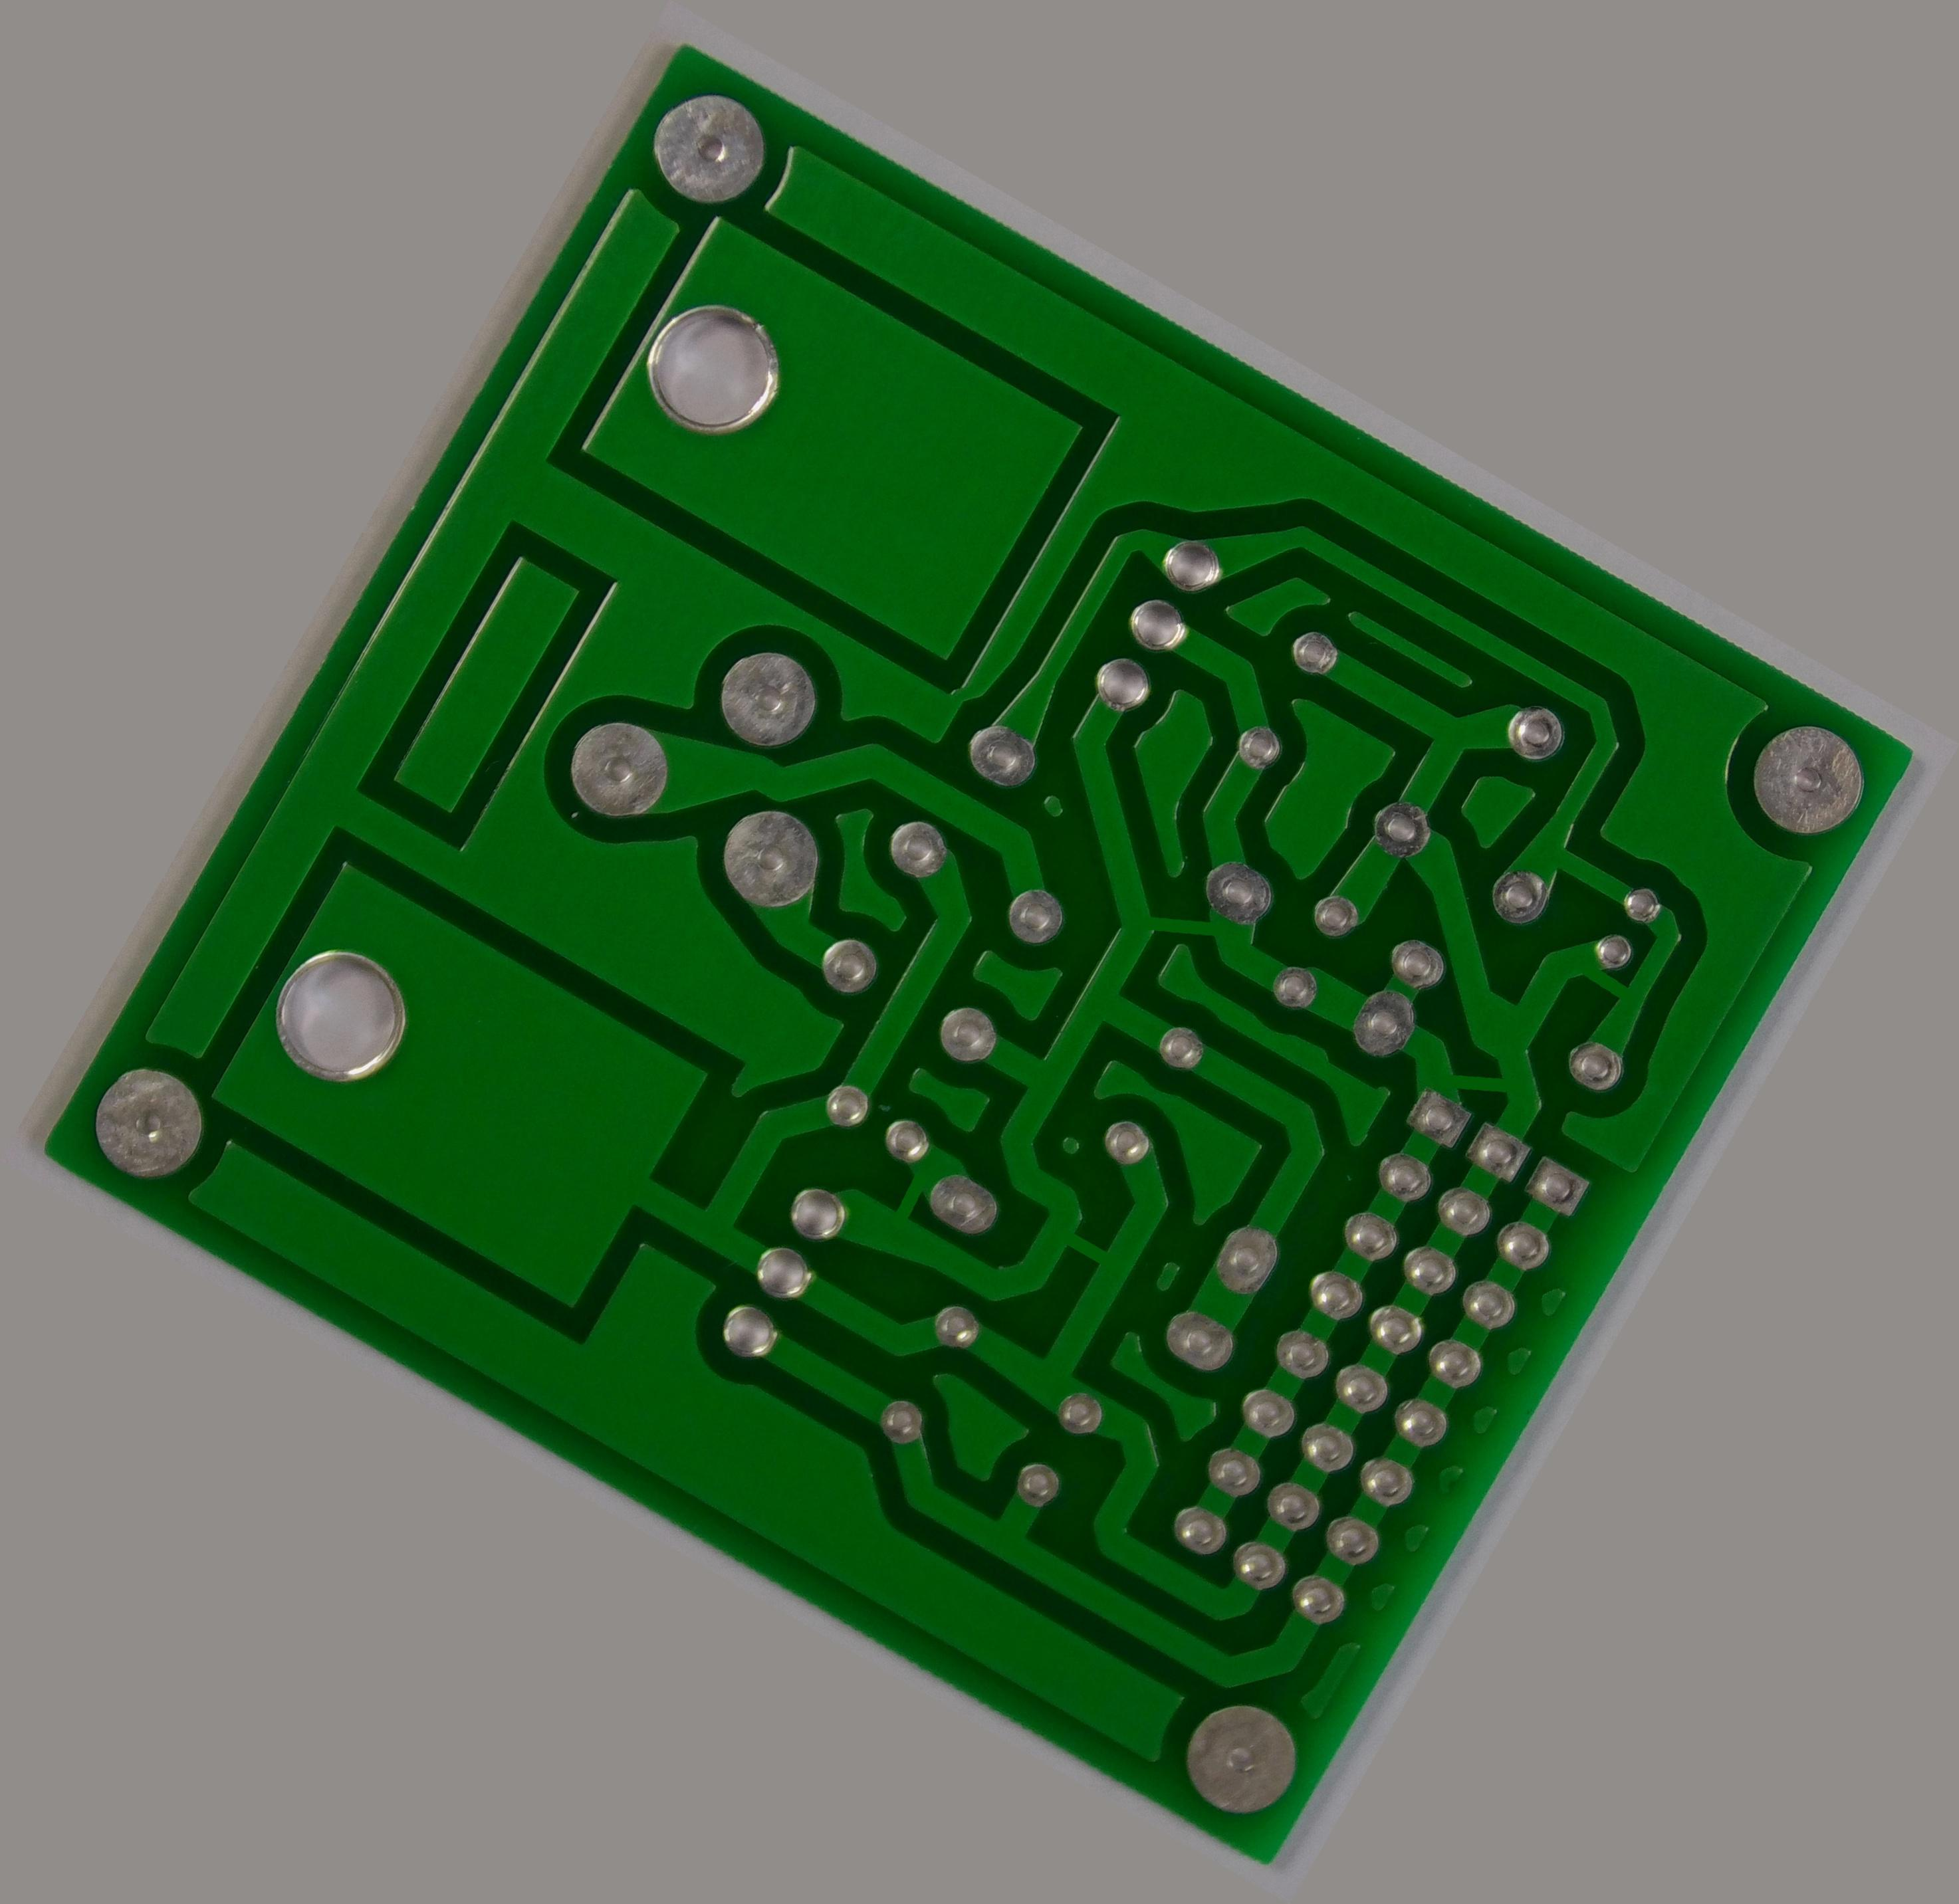short: (1091, 834, 1282, 1004), (1021, 1185, 1154, 1311), (1419, 1023, 1543, 1140), (857, 1133, 973, 1257), (1557, 928, 1658, 1025)
